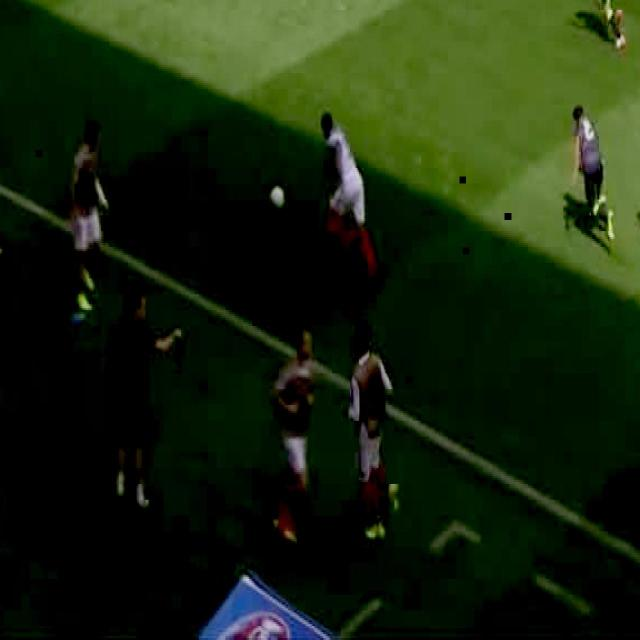ball: (271, 183, 285, 209)
player-white: (110, 296, 180, 510), (345, 319, 399, 544), (321, 111, 381, 287), (271, 328, 317, 546), (68, 123, 110, 324), (572, 103, 614, 239), (580, 0, 628, 48)
